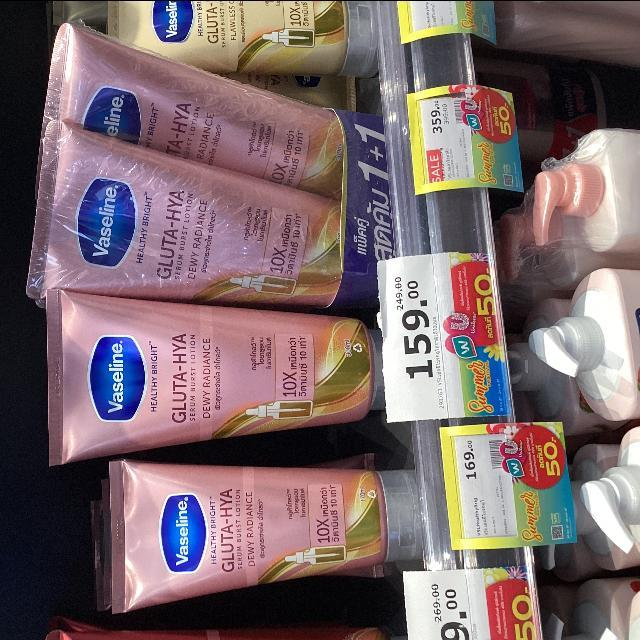Squeeze Tube: (20, 22, 439, 610)
